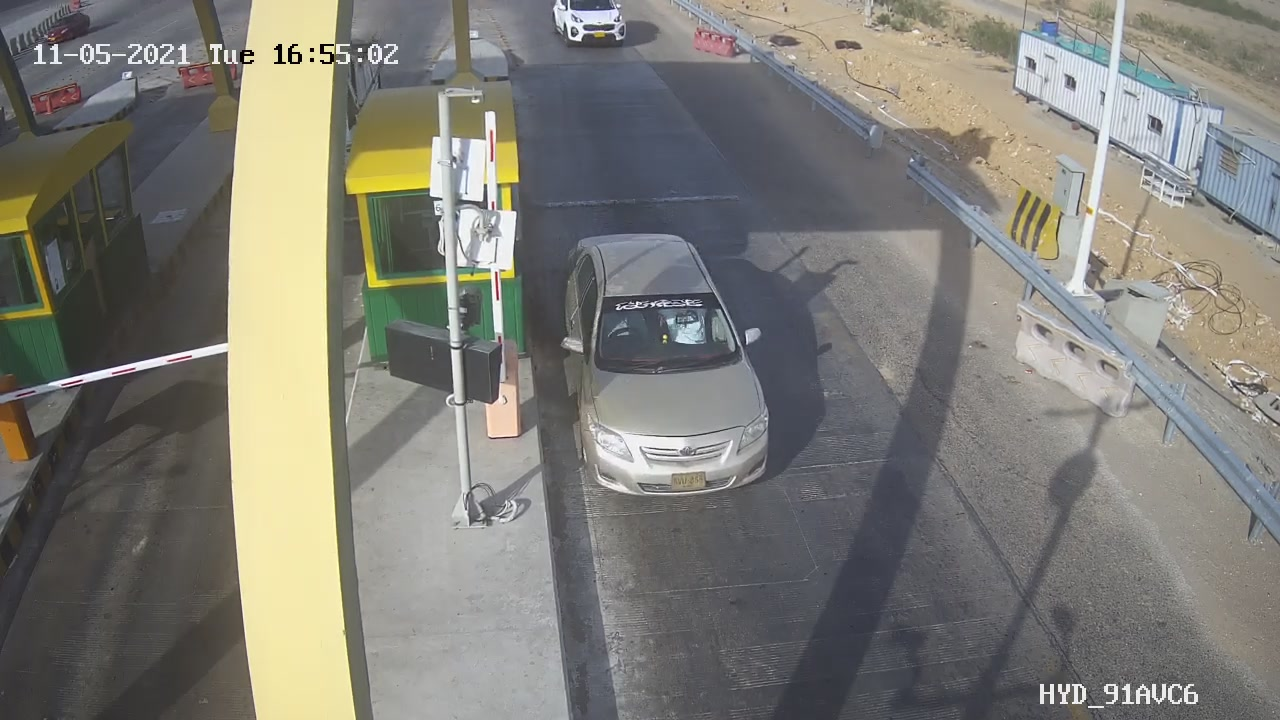F1: (530, 214, 824, 531)
